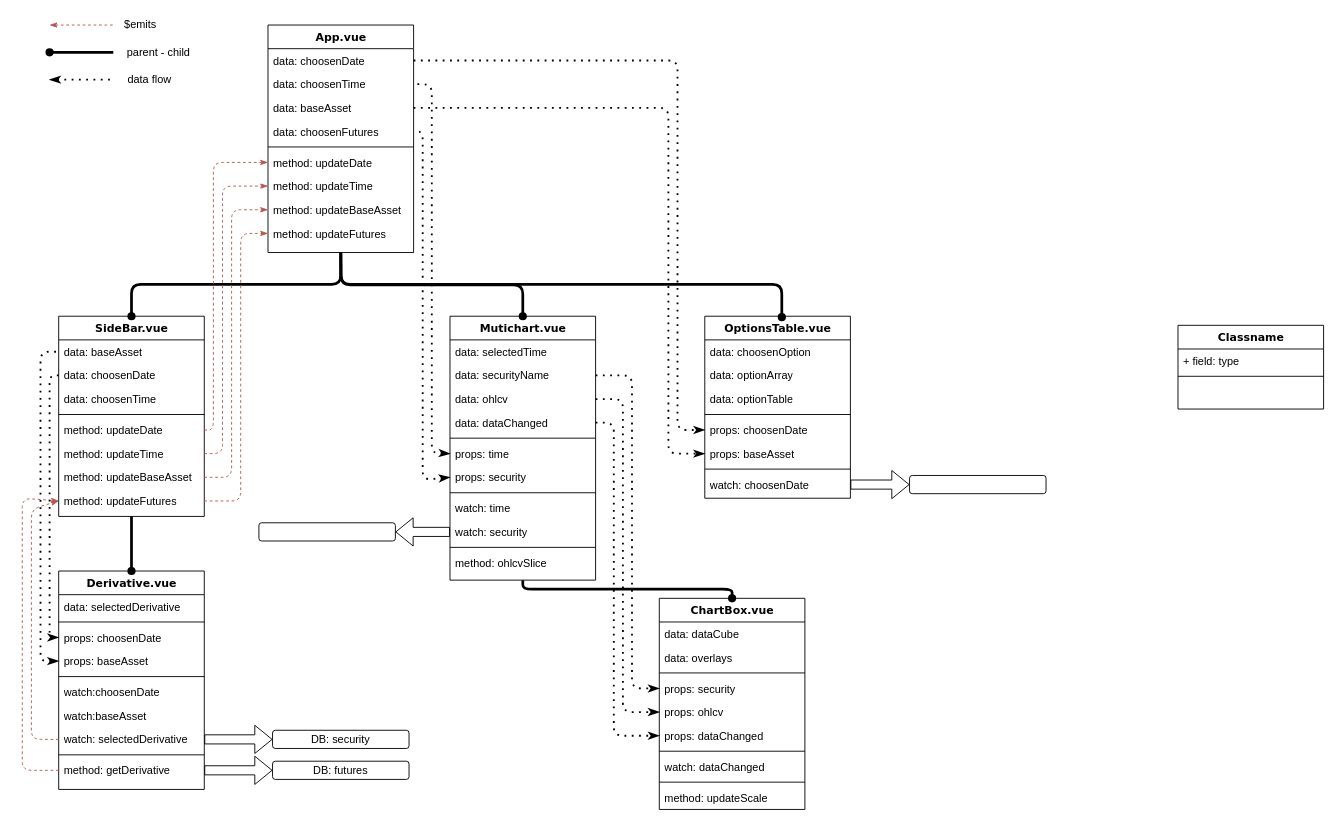
The diagram is 1340 pixels wide and 827 high, and some of its shapes have lost their labels. Each missing label, with the centre of its shape:
DB: candles: point (326, 531)
DB: options: point (977, 484)
